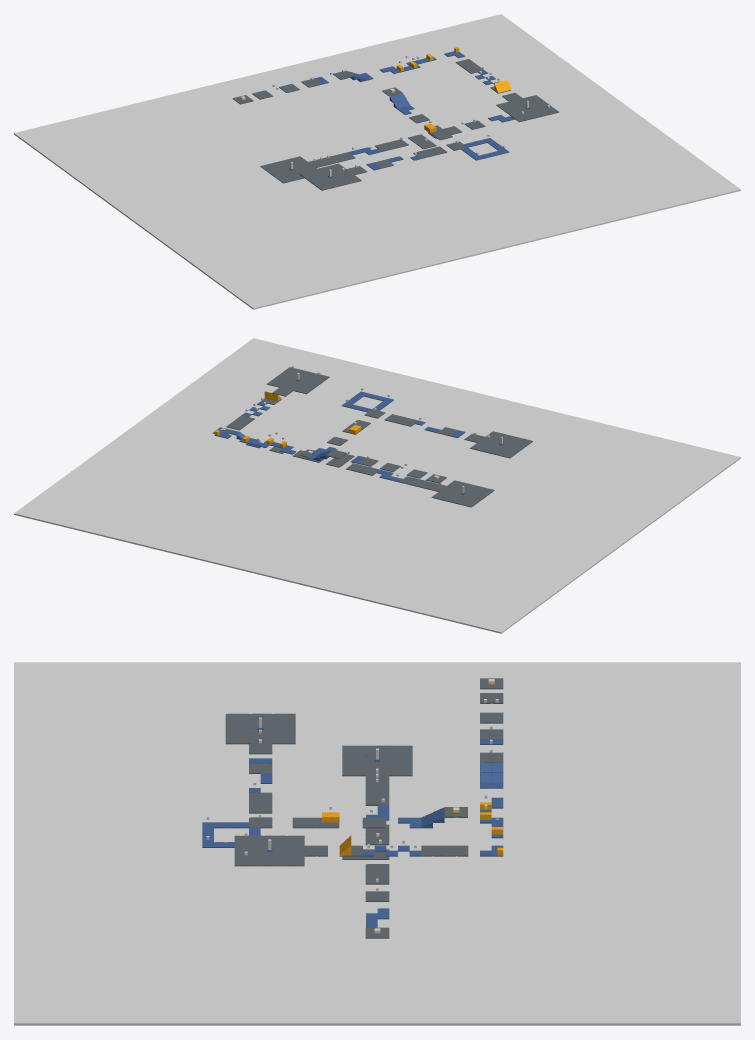
The model's file is the-collector-graphic.glb.
The picture shows the model from 3 angles, top to bottom: view 1: azimuth 30°, elevation 25°; view 2: azimuth 150°, elevation 25°; view 3: azimuth 270°, elevation 25°; orthographic projection. The views are drawn at different scales.
Visible parts, largest first — view 1: bottom; view 2: bottom; view 3: bottom.
Boxes of the visible parts, left/top/right/bottom form: bottom: left=14, top=14, right=740, bottom=309; bottom: left=14, top=338, right=740, bottom=633; bottom: left=14, top=662, right=740, bottom=1025.
Bounding box in the file's own units: 146 × 18.54 × 125.
Materials: 3 (3 with a texture image).
